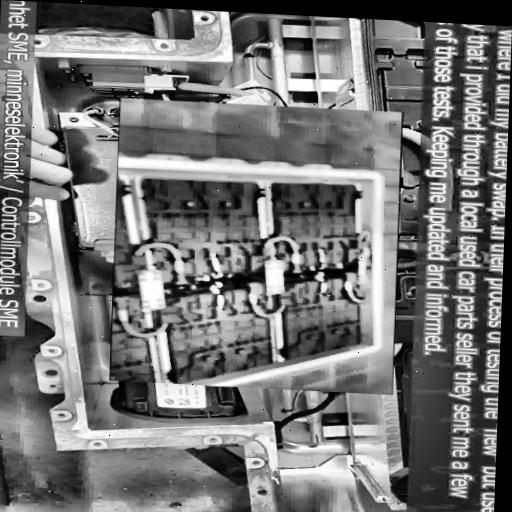high_volt_cable: (129, 238, 190, 288), (113, 296, 179, 340), (258, 235, 302, 274), (244, 284, 290, 320), (341, 270, 371, 306)
